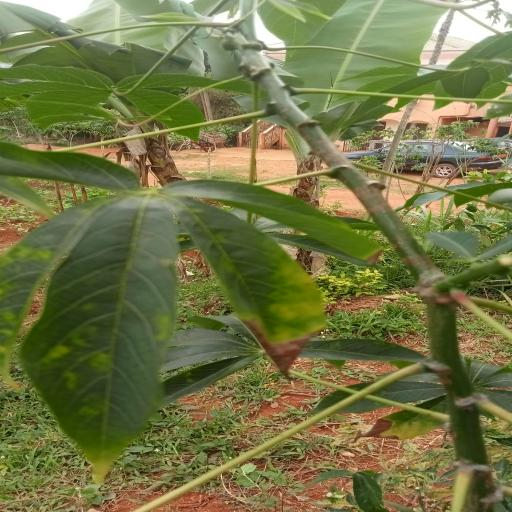Cassava_Root_Rot: (0, 153, 386, 452)
